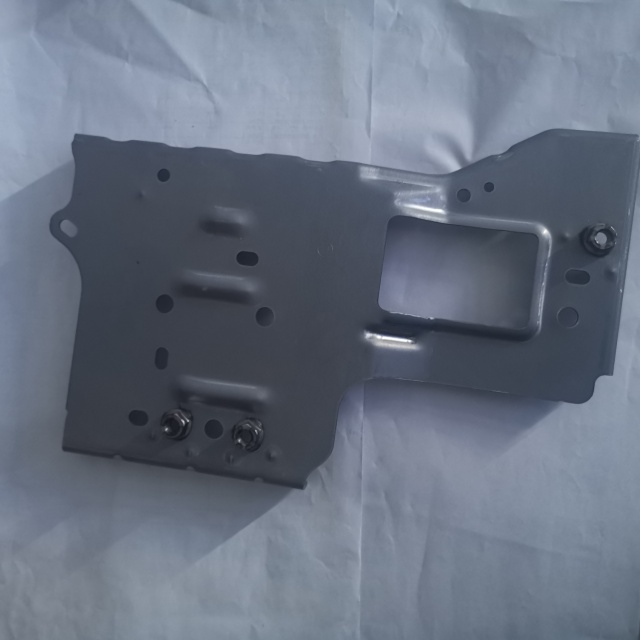dog: (579, 220, 620, 261), (228, 417, 266, 456), (158, 405, 193, 442)
